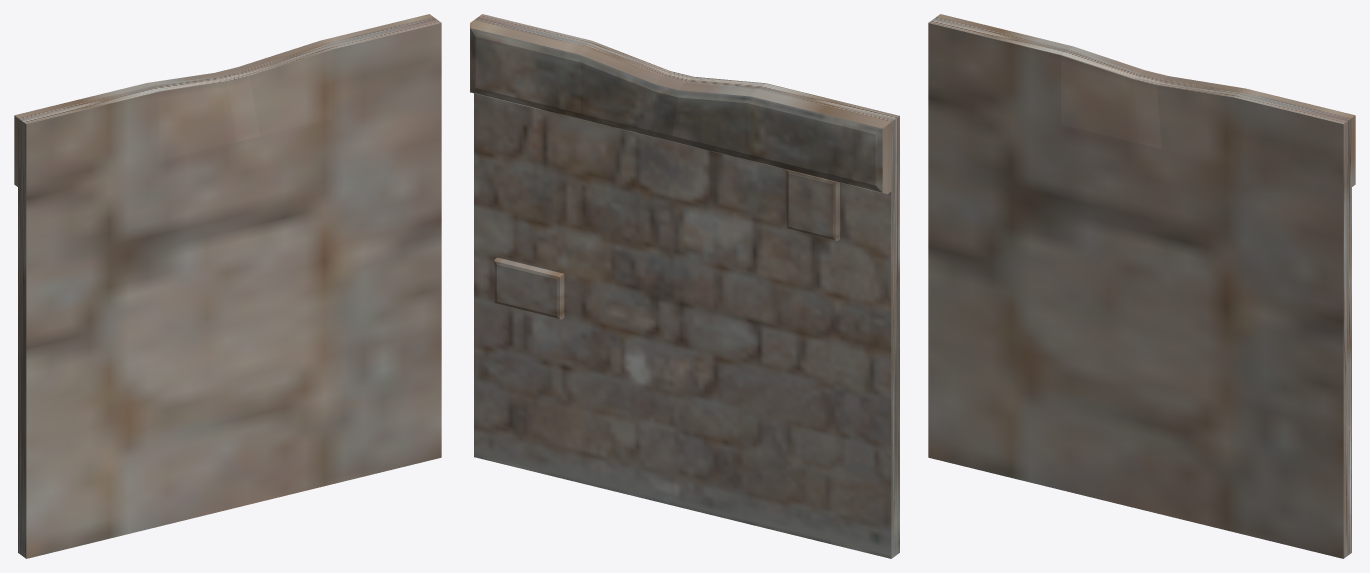
The model's file is dungeonWall01.glb.
The picture shows the model from 3 angles, left to right: view 1: azimuth 30°, elevation 25°; view 2: azimuth 150°, elevation 25°; view 3: azimuth 330°, elevation 25°; orthographic projection.
Visible parts, largest first — view 1: pared.003; view 2: pared.003; view 3: pared.003.
Boxes of the visible parts, x1,y1,x2,y2 form: pared.003: (14,14,441,558); pared.003: (470,14,899,558); pared.003: (928,14,1355,558).
Bounding box in the file's own units: 4 × 4 × 0.3.
Materials: 1 (1 with a texture image).
